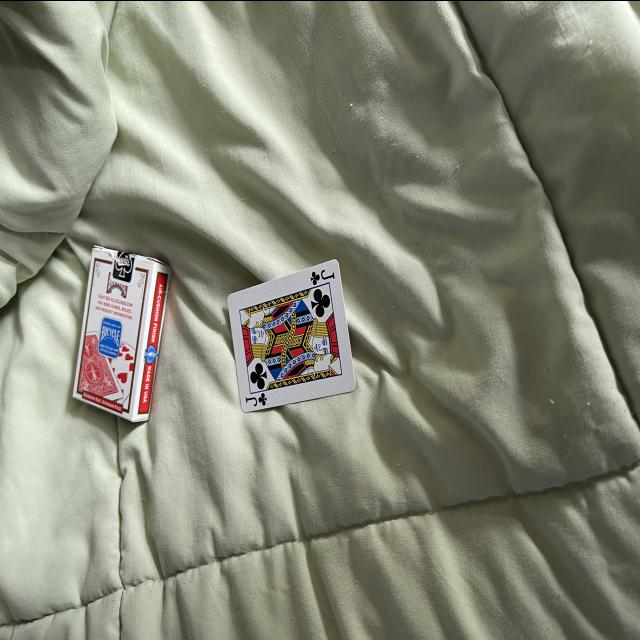Jack of clubs: (223, 253, 363, 421)
